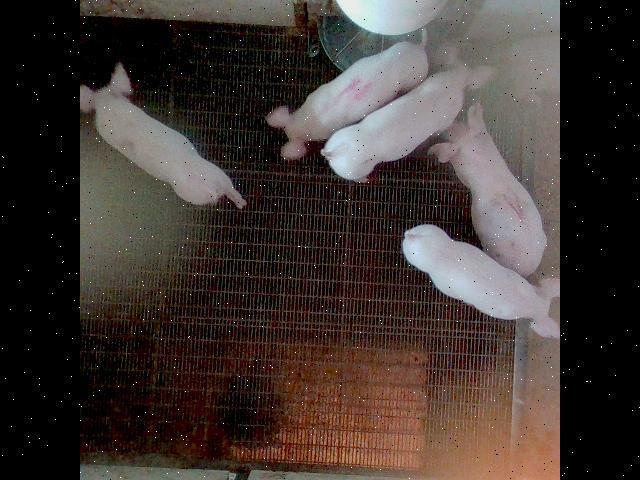pig-1: (429, 104, 546, 276)
pig-4: (266, 41, 428, 159)
